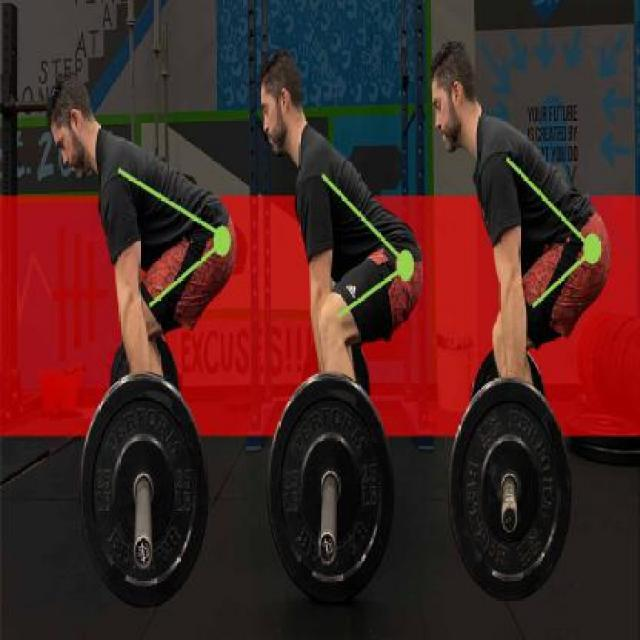Barbell: (316, 529, 338, 569), (134, 532, 156, 572), (500, 500, 520, 534)
